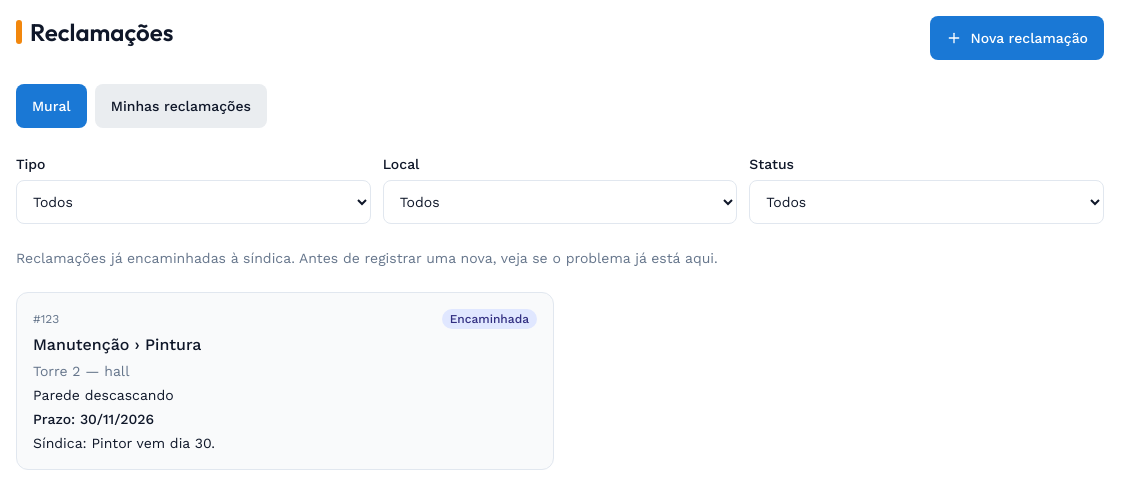
it: ComplaintsPage › aba "Minhas reclamações" mostra o motivo da recusa
The width and height of the screenshot is (1121, 487).
Click the tab "Minhas reclamações": [181, 106] box [95,84,267,128]
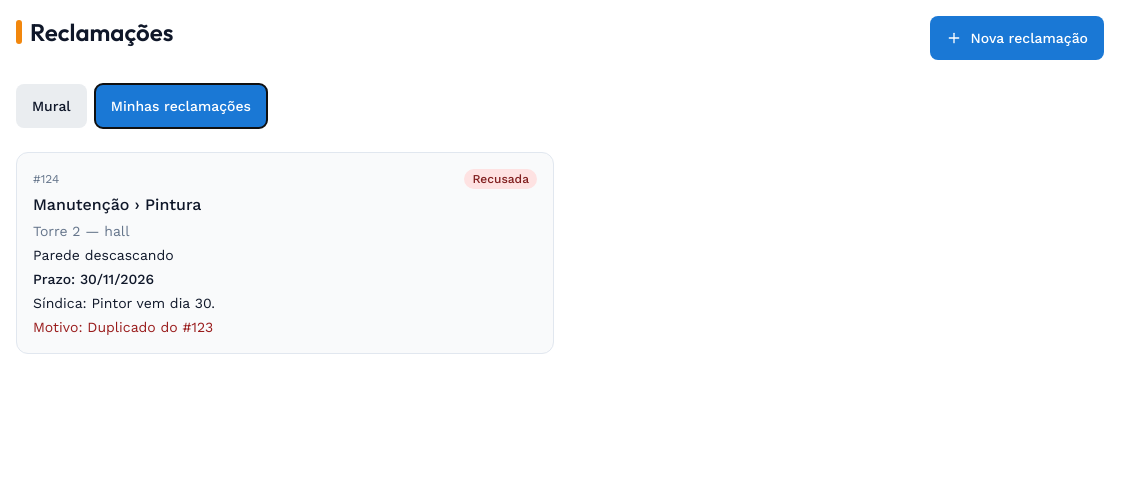
Check: the text "Motivo: Duplicado do #123" is shown, box [33,319,213,335]
